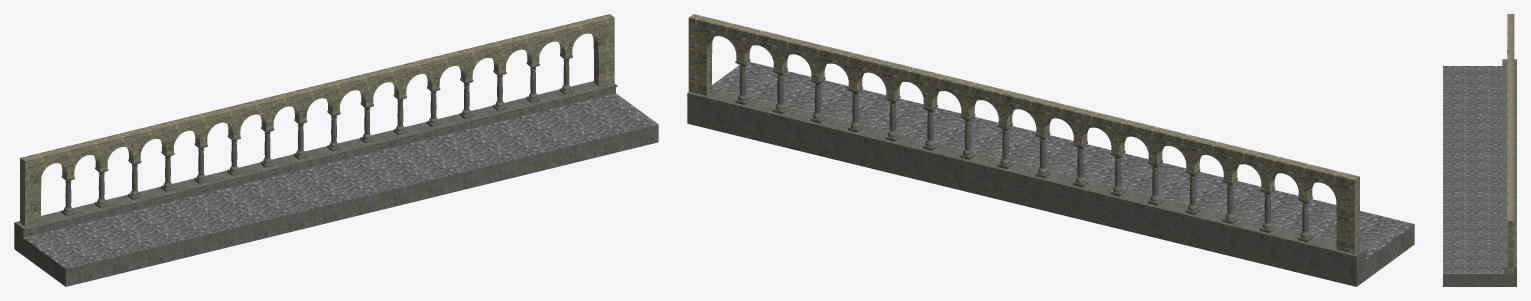
Rendered from fbxArch.fbx.
The picture shows the model from 3 angles, left to right: view 1: azimuth 30°, elevation 25°; view 2: azimuth 150°, elevation 25°; view 3: azimuth 270°, elevation 25°; orthographic projection. The views are drawn at different scales.
Visible parts, largest first — view 1: archstreet:pCube1328, archstreet:pCube1331; view 2: archstreet:pCube1328, archstreet:pCube1331; view 3: archstreet:pCube1328, archstreet:pCube1331.
Boxes of the visible parts, left/top/right/bottom form: archstreet:pCube1328: left=14, top=81, right=658, bottom=286; archstreet:pCube1331: left=20, top=14, right=614, bottom=226; archstreet:pCube1328: left=687, top=62, right=1414, bottom=286; archstreet:pCube1331: left=688, top=14, right=1359, bottom=253; archstreet:pCube1328: left=1443, top=59, right=1516, bottom=286; archstreet:pCube1331: left=1507, top=14, right=1514, bottom=274.
Size of the model in its own units: 7.08 by 1.05 by 1.06.
Materials: 3 (3 with a texture image).
